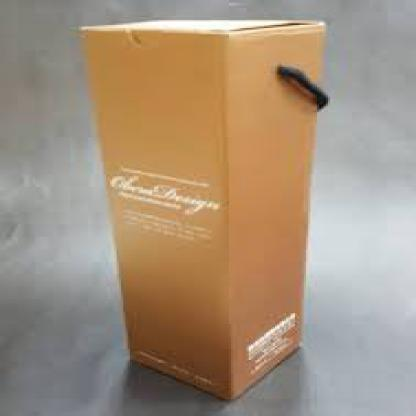CARDBOARD: (79, 17, 324, 401)
